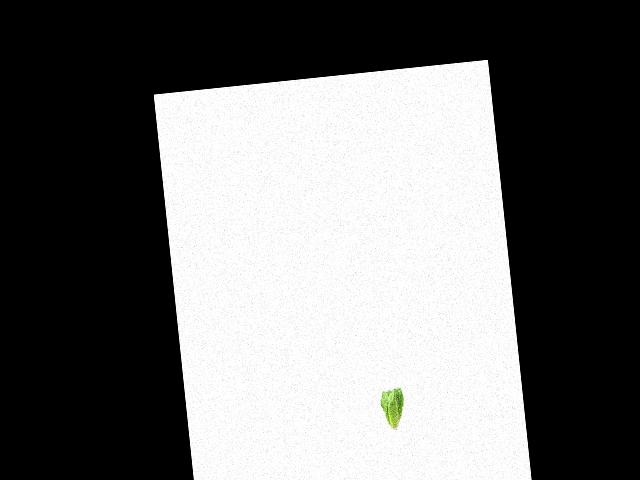lettuce: (375, 385, 410, 432)
